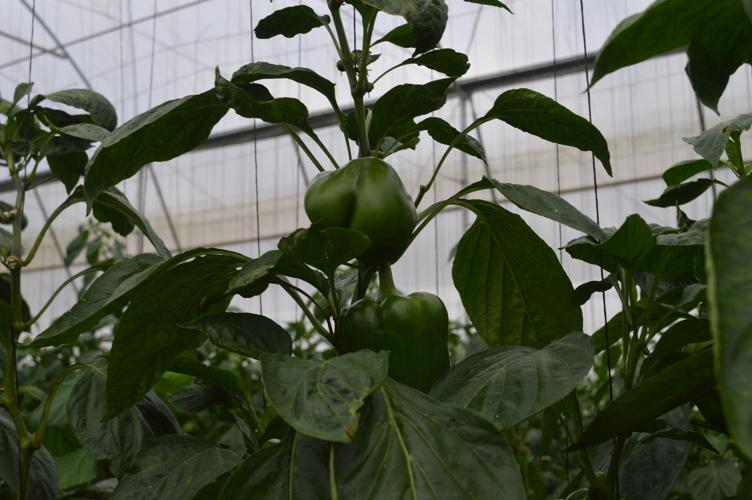BellPepper: (298, 160, 425, 267), (332, 289, 457, 386)
